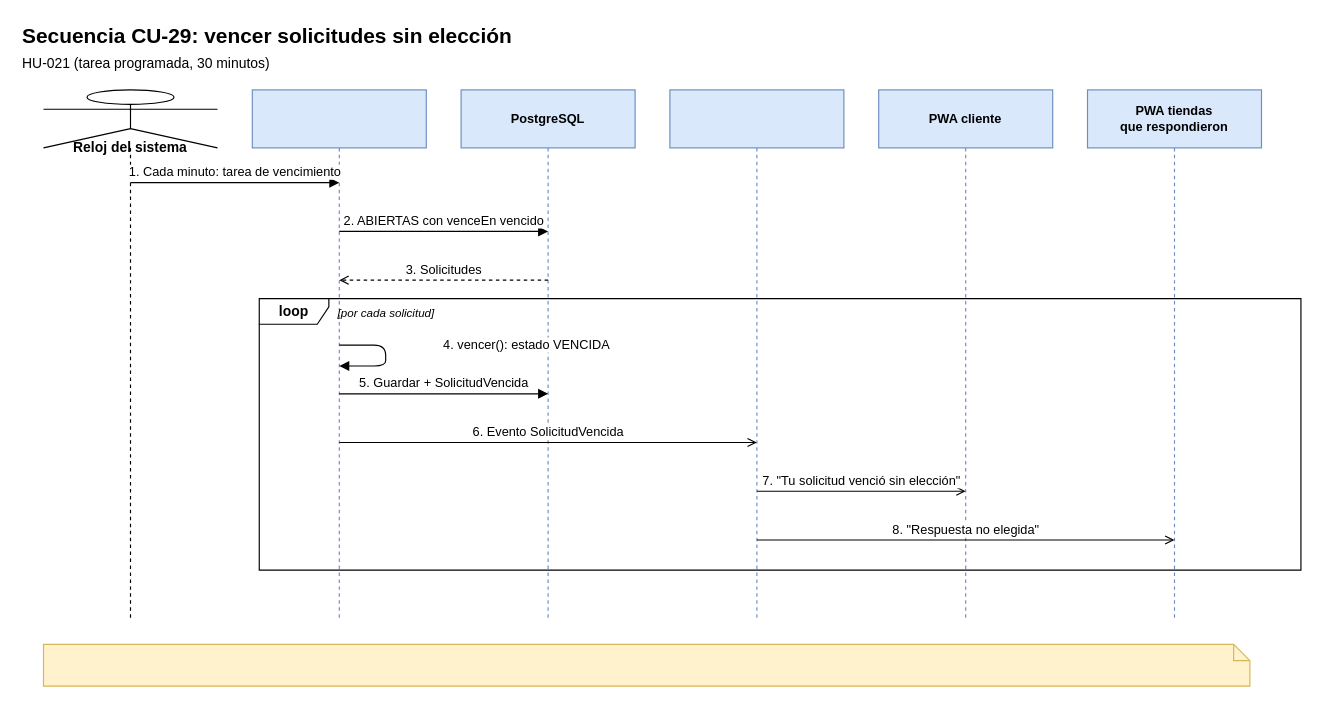
Some shapes in this 1321 by 706 pixel diagram are drawn without their labels. The shapes that lost their labels are listed below. From the top down, each one's box as (x1, y1, x2, y2) in pixels, then its label:
(251, 89, 426, 621): API REST módulo solicitudes
(669, 89, 844, 621): Notificaciones (SSE / push)
(42, 643, 1250, 686): El Reloj es un puerto (diagrama 07), así las pruebas pueden adelantar el tiempo.
